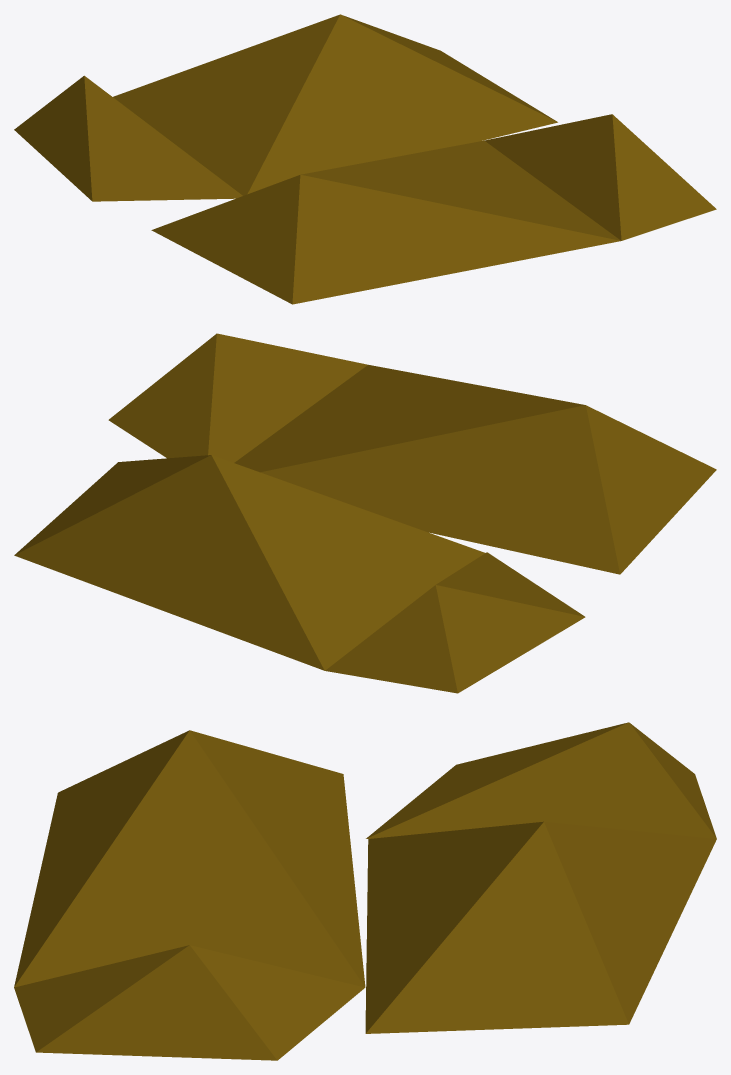
Rendered from obj_mudpatch_0.obj.
The picture shows the model from 3 angles, top to bottom: view 1: azimuth 30°, elevation 25°; view 2: azimuth 150°, elevation 25°; view 3: azimuth 270°, elevation 25°; orthographic projection. The views are drawn at different scales.
Size of the model in its own units: 1.99 by 0.375 by 2.
